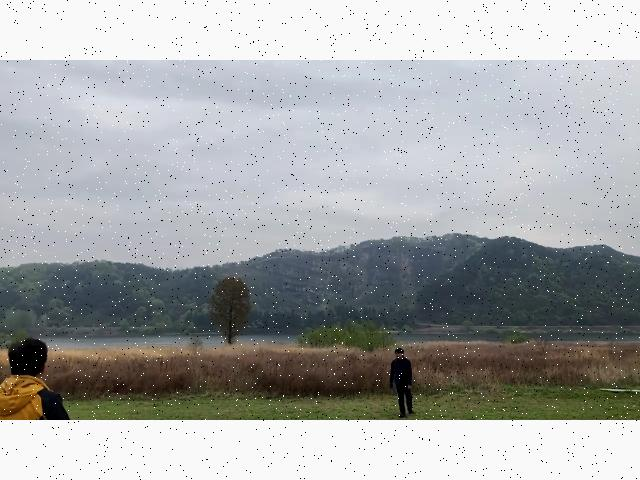Anti-Drone: (309, 202, 333, 214)
